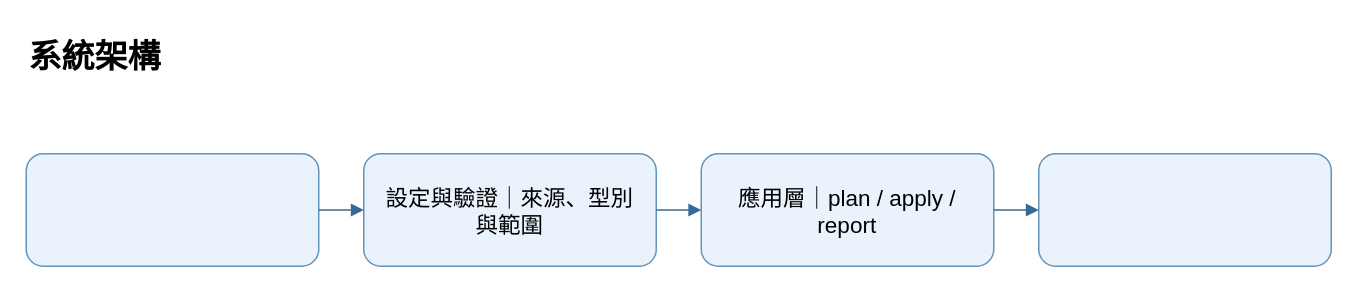
Image size: 1358x293. Some labels were removed from this diagram. The centre of each missing label's shape, as x and y in pixels:
"命令入口｜argv 和 argparse" goes at pixel 172 209.
"輸出層｜JSON、stderr、退出碼" goes at pixel 1184 209.
